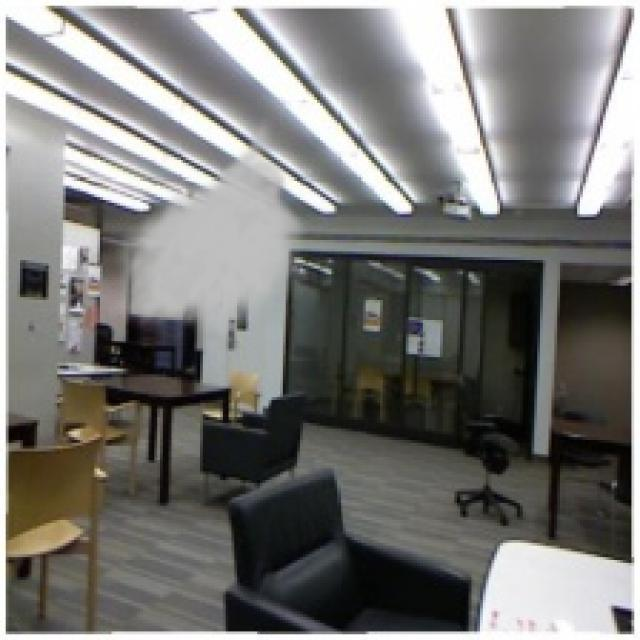Smoke: (106, 114, 312, 337)
